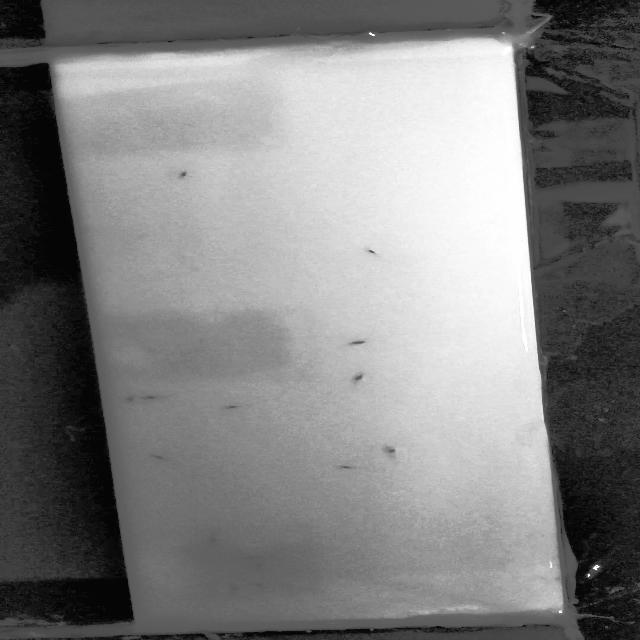shrimp: (359, 238, 391, 262), (329, 457, 371, 475), (170, 160, 201, 180), (348, 336, 378, 356), (344, 365, 370, 387), (378, 444, 406, 462), (141, 394, 194, 403), (119, 390, 148, 406), (144, 448, 173, 464), (225, 399, 258, 413), (252, 557, 279, 573), (231, 552, 273, 562), (203, 533, 227, 550), (225, 578, 247, 596), (248, 577, 270, 590)
